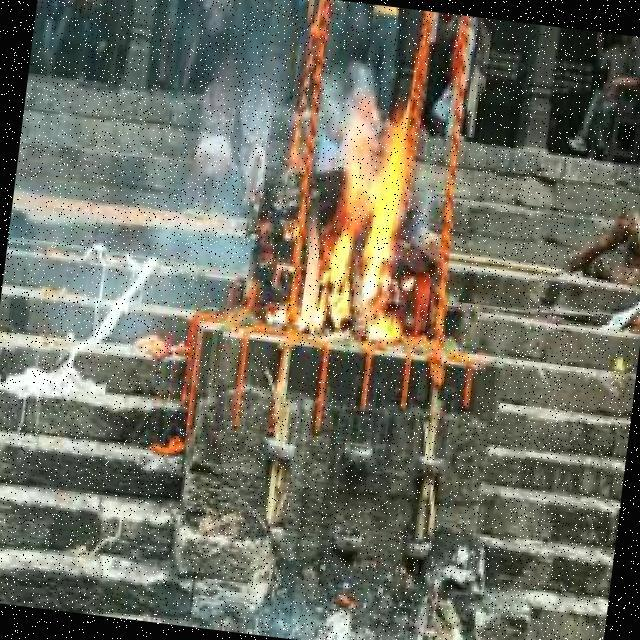Fire: (287, 94, 421, 346)
